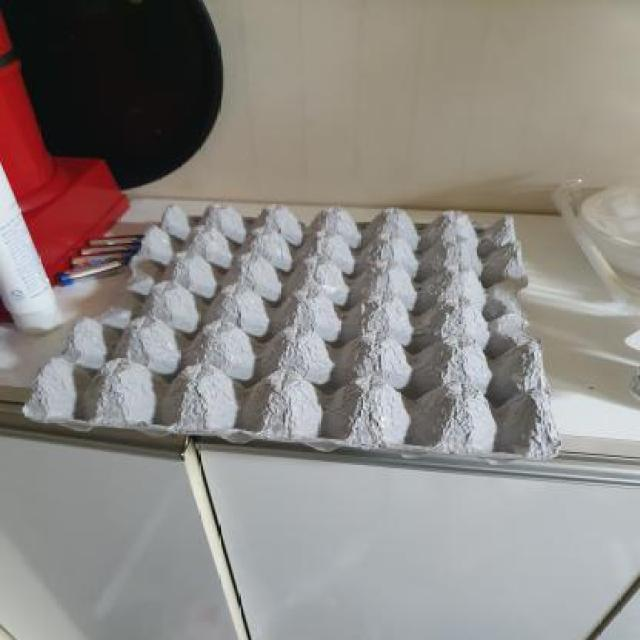box: (0, 189, 578, 497)
